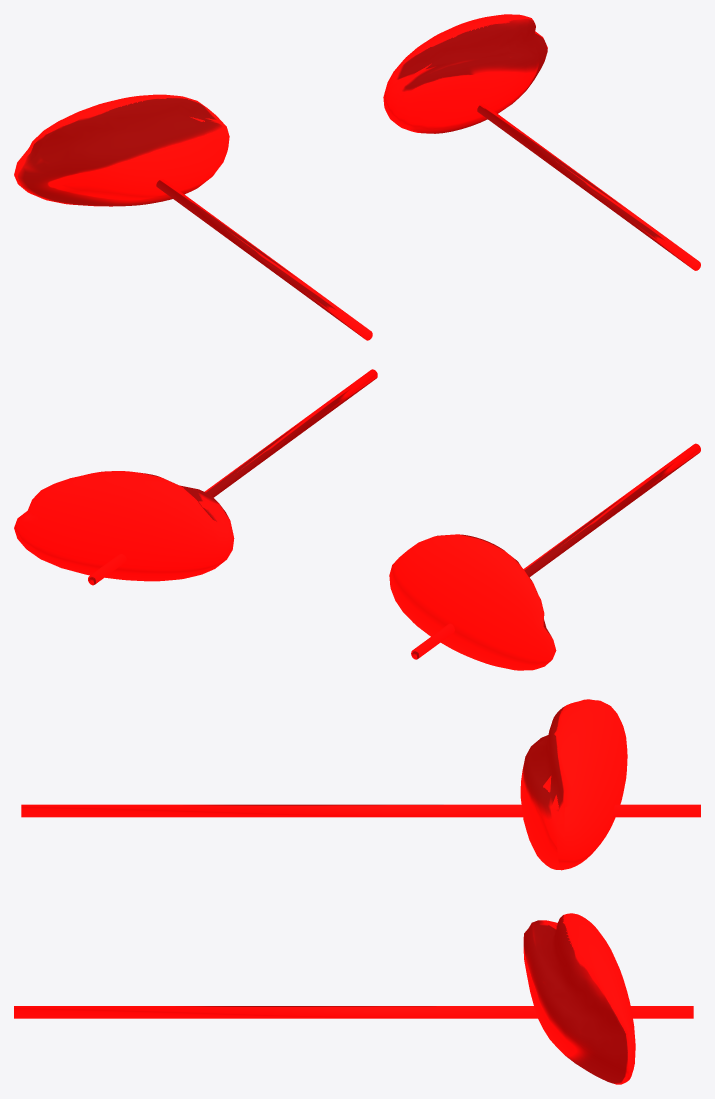
The model's file is Laser-Red.glb.
The picture shows the model from 3 angles, top to bottom: view 1: azimuth 30°, elevation 25°; view 2: azimuth 150°, elevation 25°; view 3: azimuth 270°, elevation 25°; orthographic projection. The views are drawn at different scales.
Parts seen in each view (by area): view 1: Bored.002; view 2: Bored.002; view 3: Bored.002.
Part boxes in pixels (x1=…): Bored.002: x1=14, y1=14, x2=700, y2=340; Bored.002: x1=14, y1=369, x2=700, y2=670; Bored.002: x1=14, y1=699, x2=700, y2=1084.
Bounding box in the file's own units: 0.3809 × 0.0766 × 0.3481.
2 materials, 2 textured.
